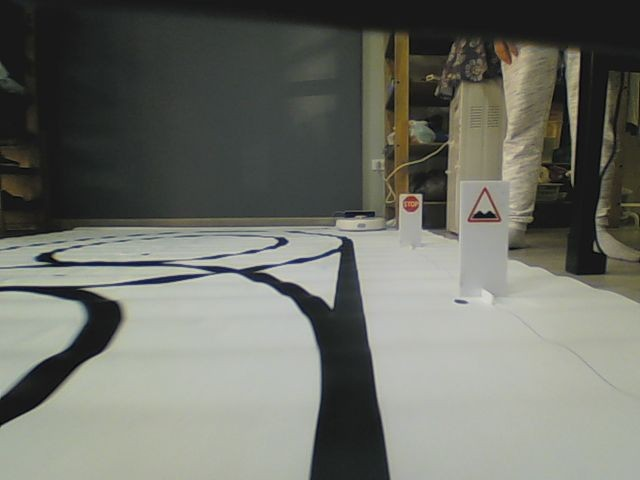Nerov: (466, 185, 502, 224)
Stop: (402, 196, 420, 213)
